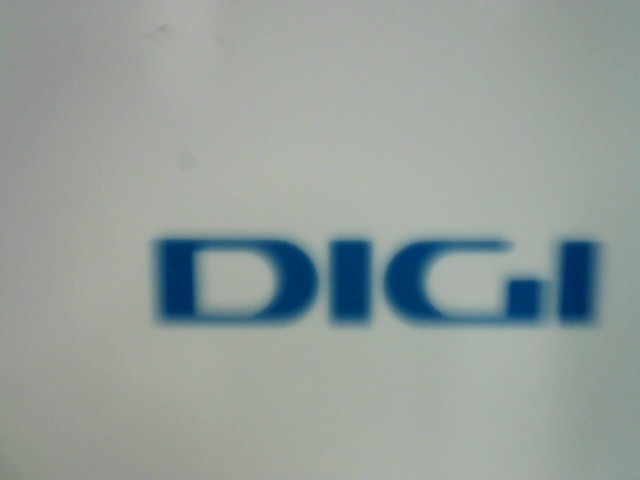BL_DIGI: (137, 219, 616, 329)
